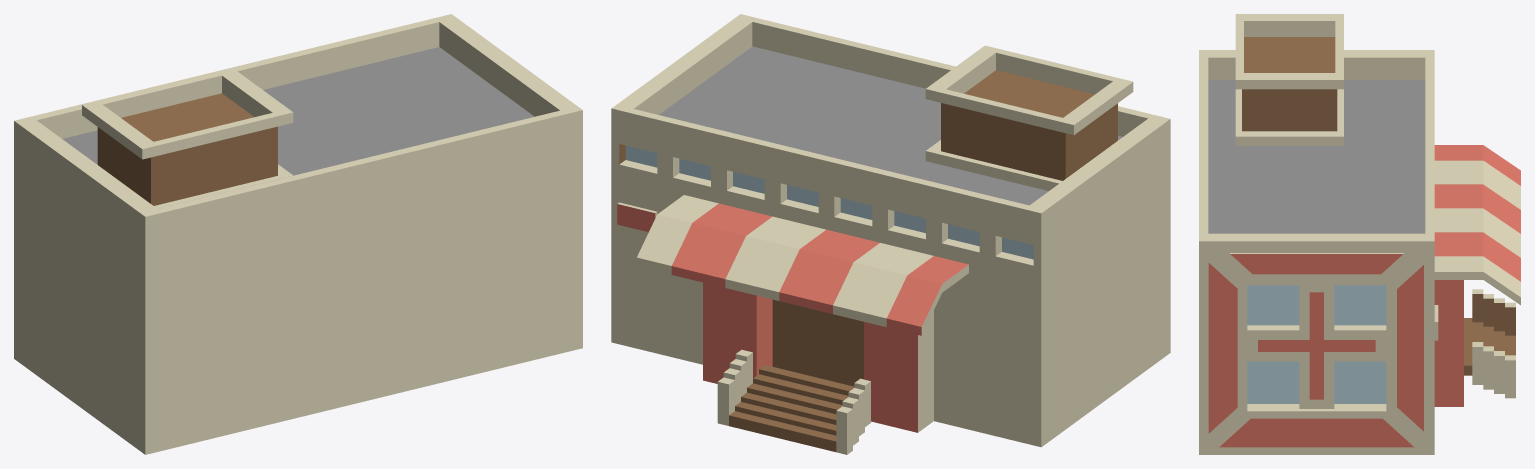
File: CAFE.fbx
3 views of the same model, side by side, from view 1: azimuth 30°, elevation 25°; view 2: azimuth 150°, elevation 25°; view 3: azimuth 270°, elevation 25° (orthographic). The views are drawn at different scales.
Visible parts, largest first — view 1: Cube; view 2: Cube; view 3: Cube.
Boxes of the visible parts, <box> form: Cube: <box>14,14,582,454</box>; Cube: <box>611,14,1170,454</box>; Cube: <box>1199,14,1520,454</box>.
Bounding box in the file's own units: 852 × 553 × 603.
